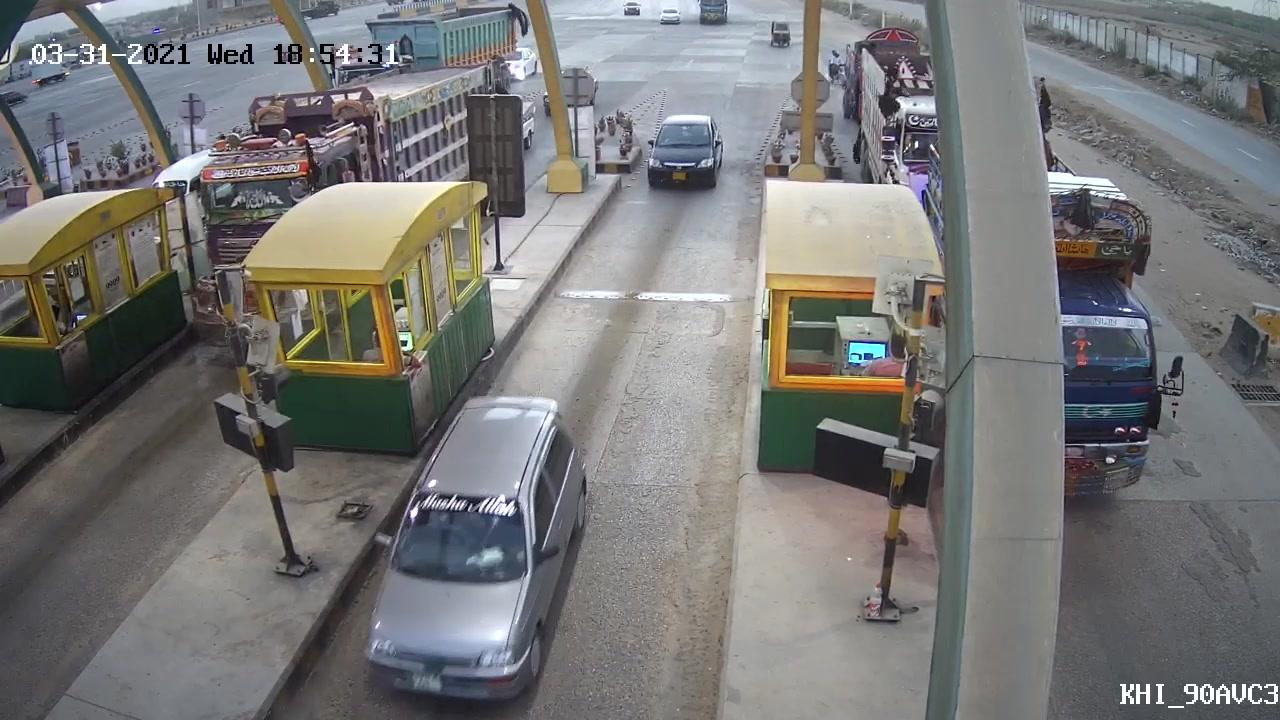F1: (353, 389, 593, 706), (644, 108, 725, 193)
